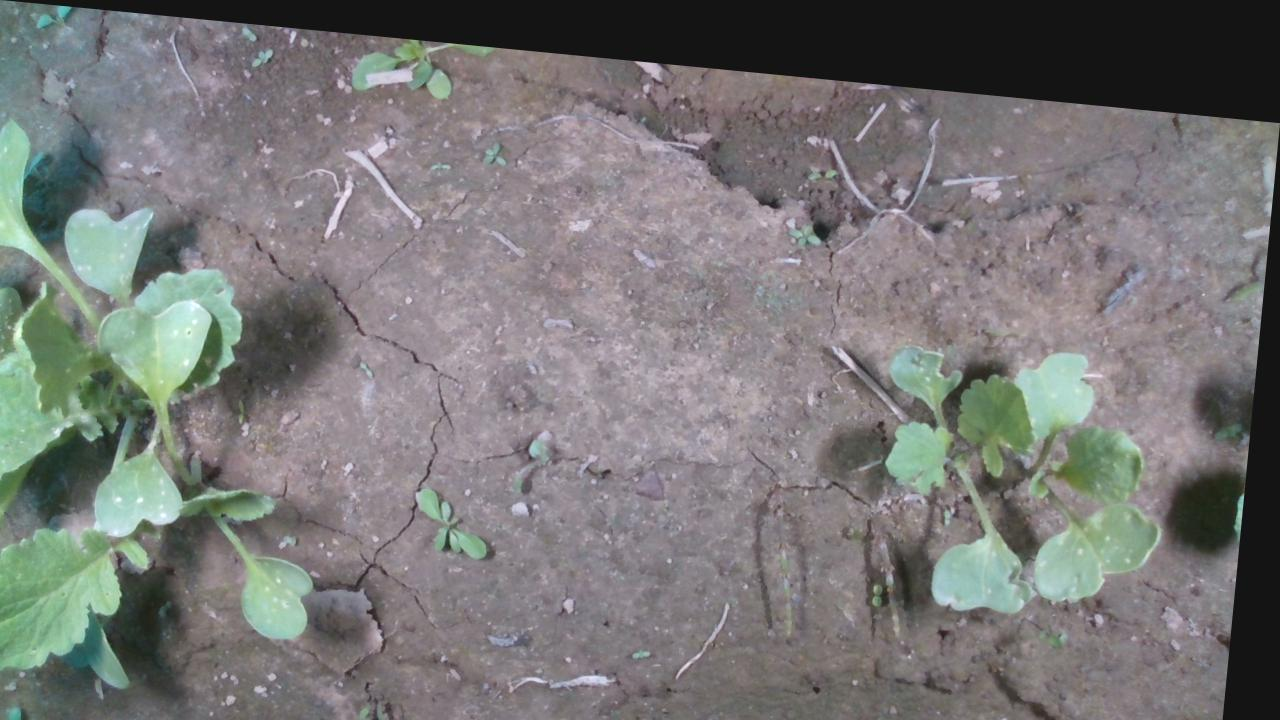weed: (789, 203, 825, 230), (482, 128, 510, 154), (806, 148, 840, 165), (250, 39, 273, 63), (363, 350, 382, 372), (241, 392, 255, 419), (880, 563, 894, 588), (239, 19, 258, 37), (655, 712, 696, 719)
